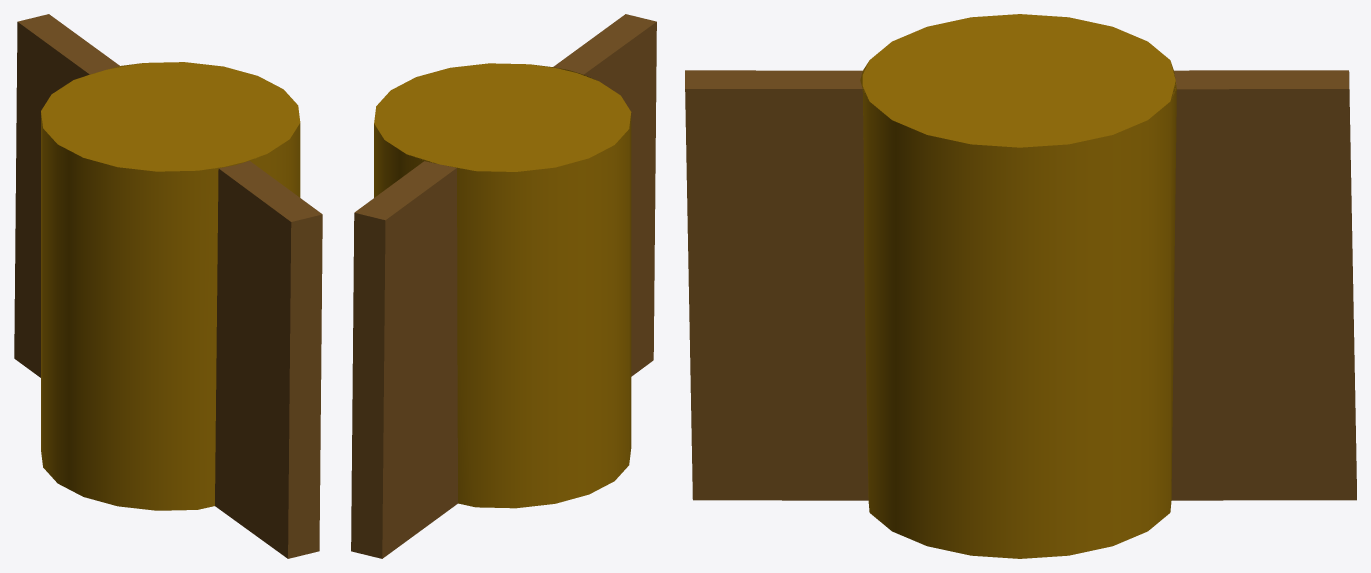
The model's file is smallverticalmill.fbx.
3 views of the same model, side by side, from view 1: azimuth 30°, elevation 25°; view 2: azimuth 150°, elevation 25°; view 3: azimuth 270°, elevation 25° (orthographic). The views are drawn at different scales.
Parts seen in each view (by area): view 1: pCube3; view 2: pCube3; view 3: pCube3.
Part boxes in pixels (box(x1,y1,x2,y2)): pCube3: box(14, 14, 322, 558); pCube3: box(351, 14, 656, 558); pCube3: box(685, 14, 1356, 558).
Bounding box in the file's own units: 0.7868 × 1.13 × 1.67.
